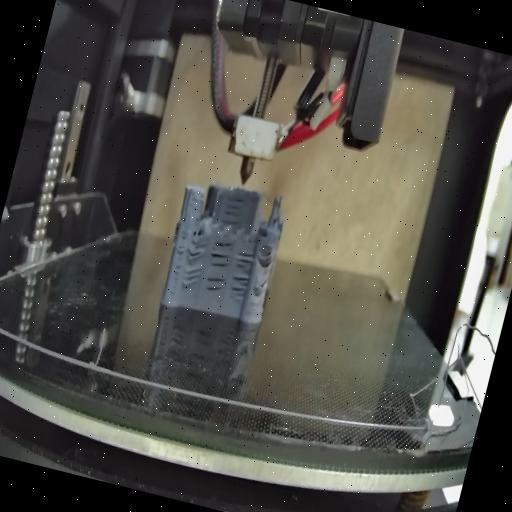cracks: (166, 236, 189, 302), (218, 188, 248, 229), (207, 238, 235, 270), (185, 234, 210, 264), (202, 272, 228, 296), (181, 266, 203, 294), (232, 248, 256, 272), (228, 274, 250, 300), (262, 250, 276, 268), (257, 278, 267, 293), (181, 210, 189, 223)
